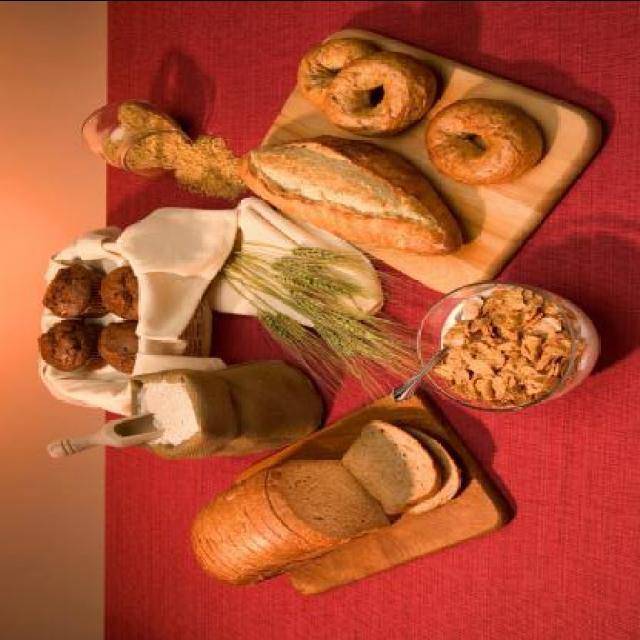Bagel: (423, 100, 546, 184), (324, 49, 442, 134), (294, 36, 378, 106)
